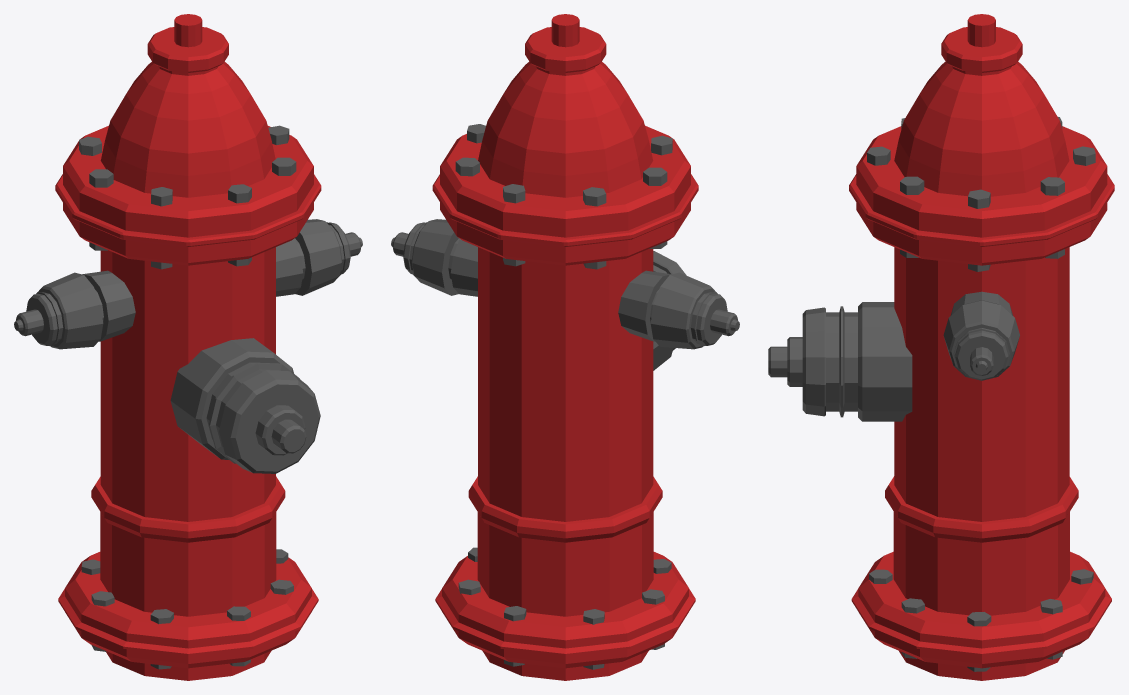
File: prop_fire_hydrant.glb
3 renders of one model, left to right at view 1: azimuth 30°, elevation 25°; view 2: azimuth 150°, elevation 25°; view 3: azimuth 270°, elevation 25°, orthographic.
Visible parts, largest first — view 1: fire hydrant; view 2: fire hydrant; view 3: fire hydrant.
Part boxes in pixels (left/top/right/bottom): fire hydrant: left=14, top=14, right=362, bottom=680; fire hydrant: left=391, top=14, right=739, bottom=680; fire hydrant: left=768, top=14, right=1114, bottom=680.
Size of the model in its own units: 1.38 by 2.39 by 1.2.
